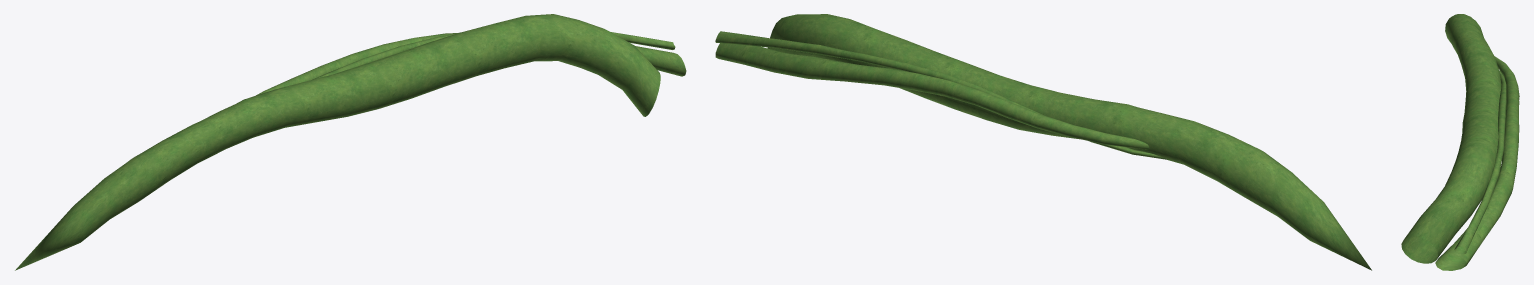
File: SM_ENV_KNFRST_FallenTree_B.FBX
3 renders of one model, left to right at view 1: azimuth 30°, elevation 25°; view 2: azimuth 150°, elevation 25°; view 3: azimuth 270°, elevation 25°, orthographic. The views are drawn at different scales.
Visible parts, largest first — view 1: SM_ENV_KNFRST_FallenTree_B; view 2: SM_ENV_KNFRST_FallenTree_B; view 3: SM_ENV_KNFRST_FallenTree_B.
Part boxes in pixels (box(x1,y1,x2,y2)): SM_ENV_KNFRST_FallenTree_B: box(15, 14, 686, 270); SM_ENV_KNFRST_FallenTree_B: box(715, 14, 1371, 270); SM_ENV_KNFRST_FallenTree_B: box(1401, 14, 1519, 270).
Size of the model in its own units: 5725 by 1041 by 1051.
